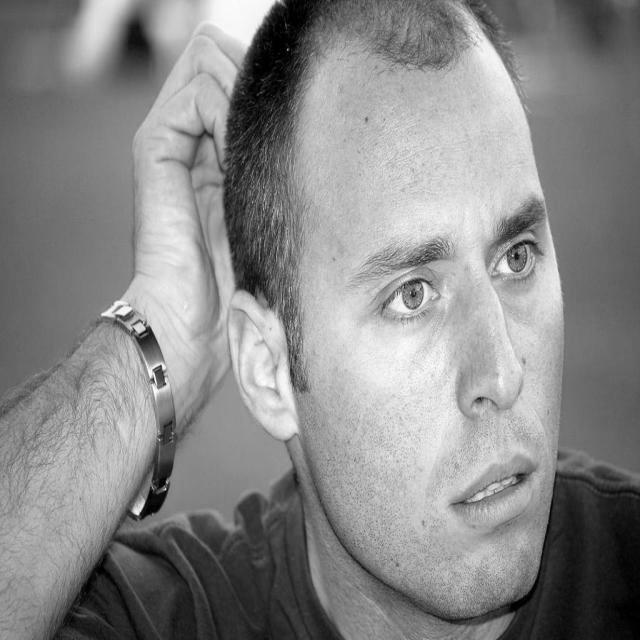real: (269, 52, 562, 623), (373, 203, 546, 326)
